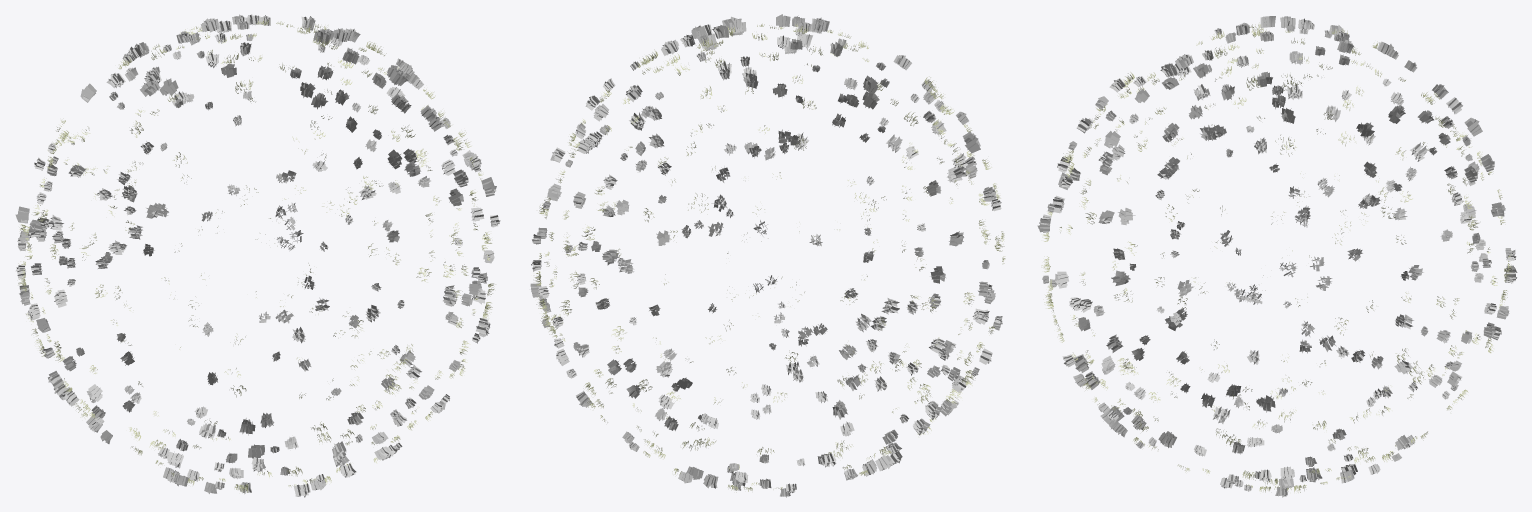
File: Flowers Sphere.fbx
3 renders of one model, left to right at view 1: azimuth 30°, elevation 25°; view 2: azimuth 150°, elevation 25°; view 3: azimuth 270°, elevation 25°, orthographic.
Size of the model in its own units: 16.5 by 16.4 by 16.44.
